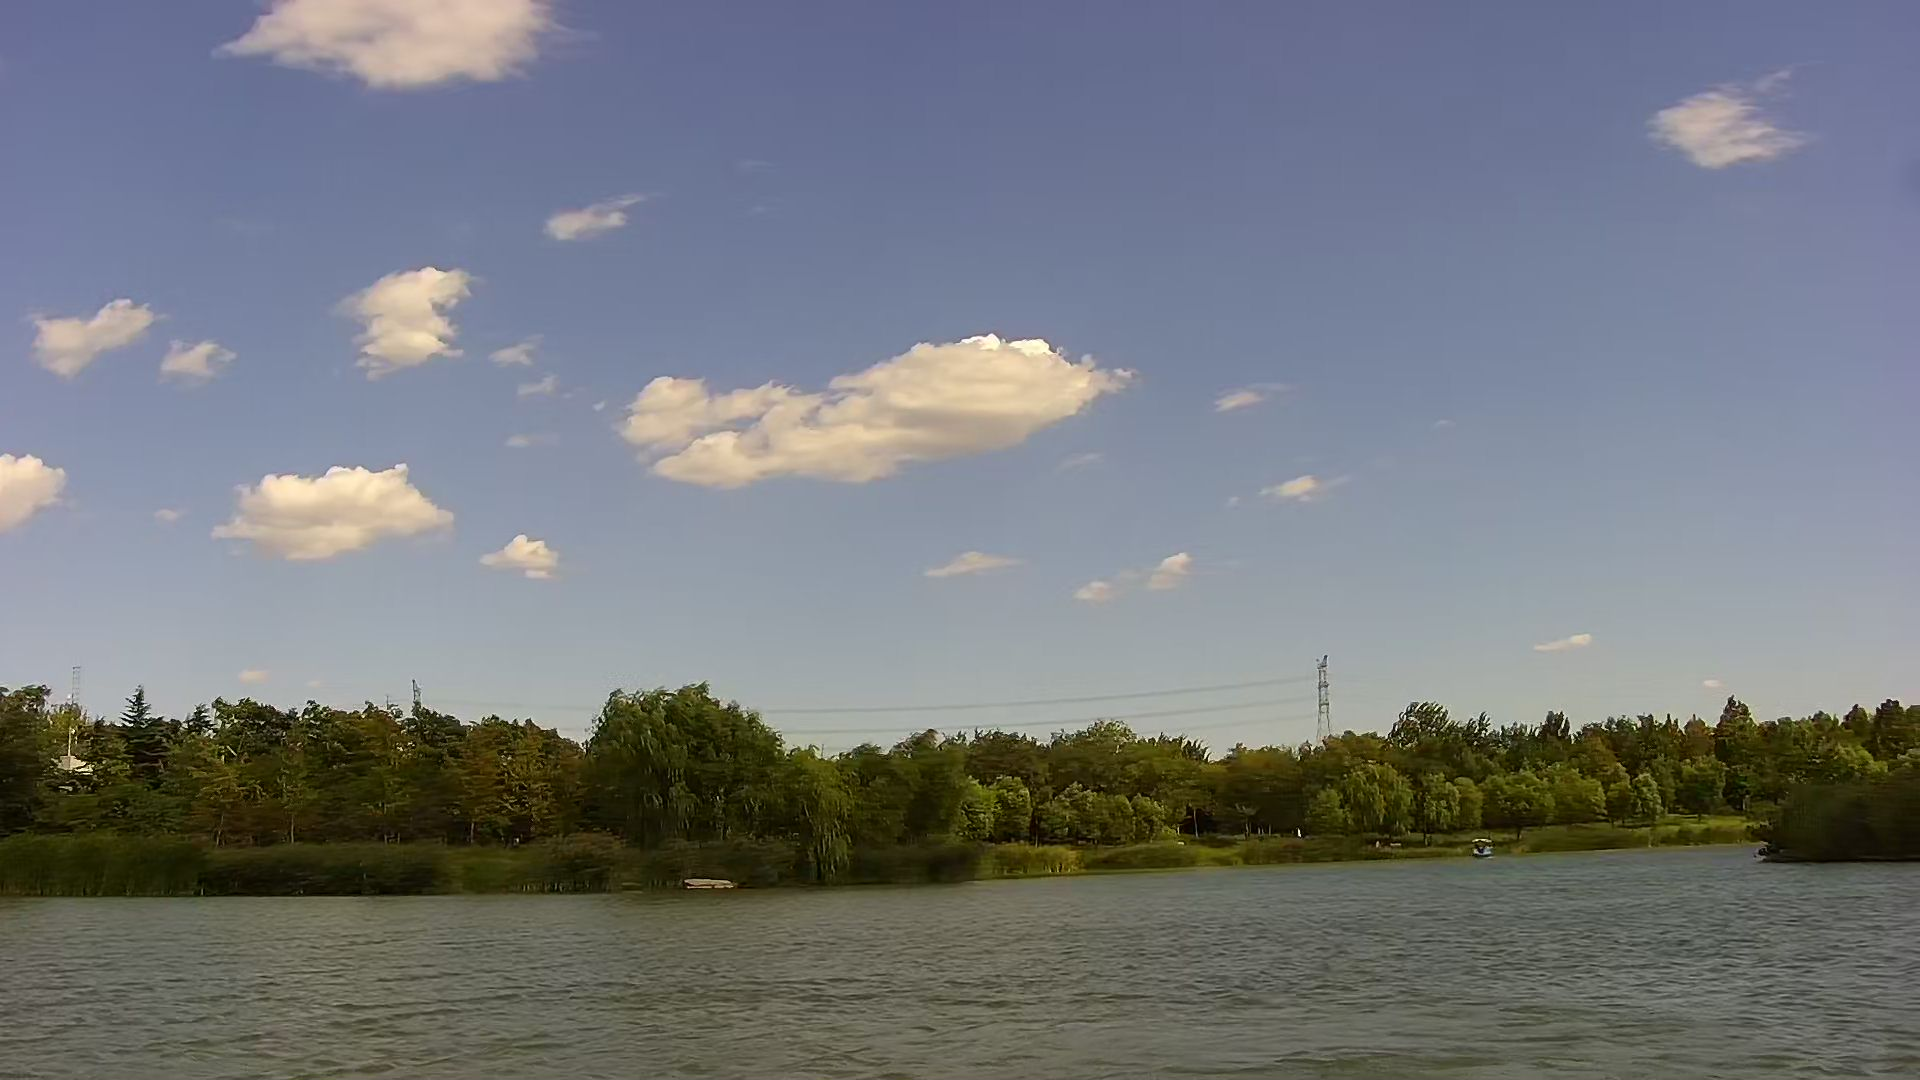boat: (1474, 833, 1490, 858)
rock: (683, 874, 729, 891)
